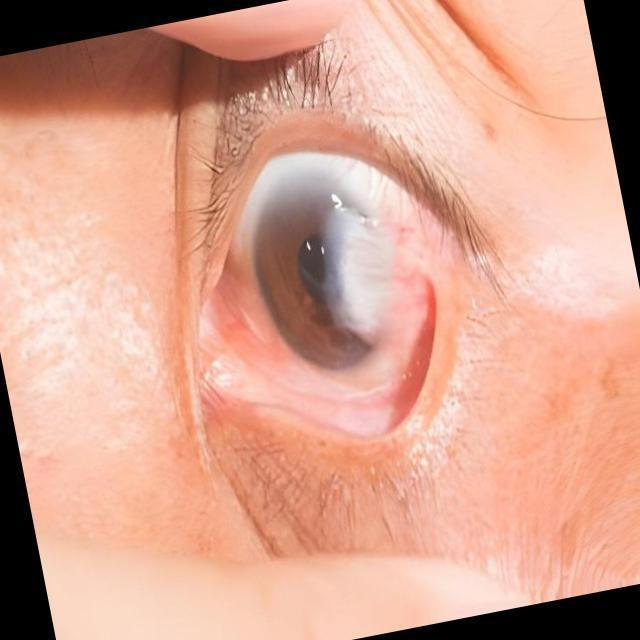Pterygium: (314, 183, 468, 364), (187, 222, 306, 384)
